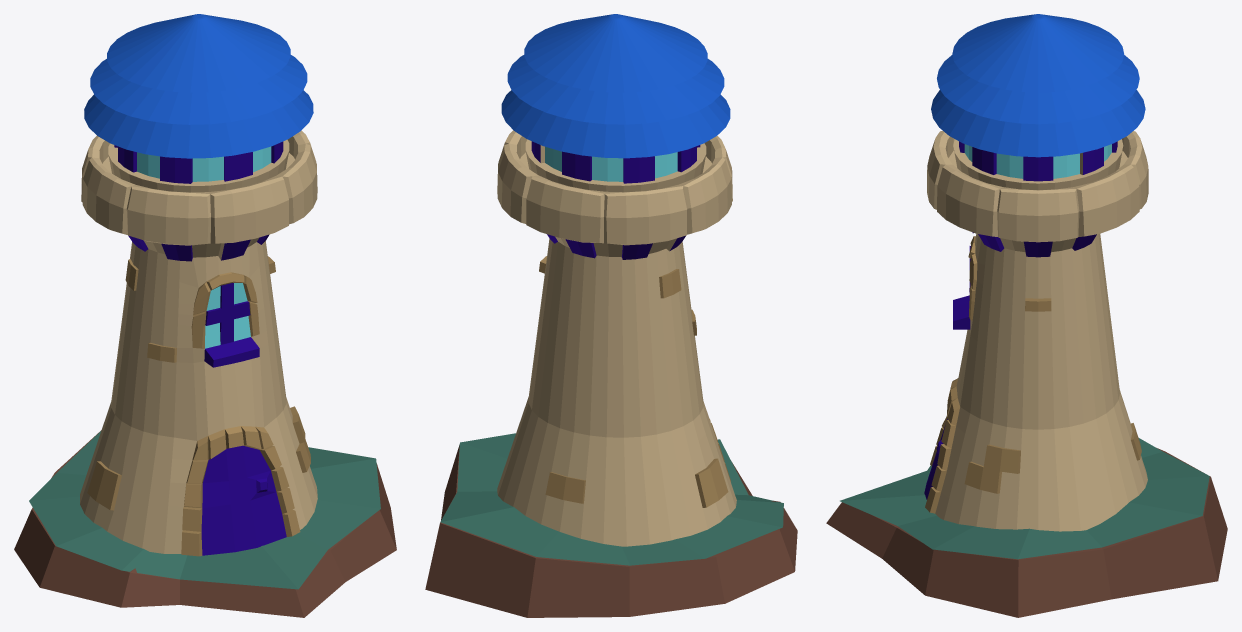
Rendered from kalesu (1).fbx.
The picture shows the model from 3 angles, left to right: view 1: azimuth 30°, elevation 25°; view 2: azimuth 150°, elevation 25°; view 3: azimuth 270°, elevation 25°; orthographic projection. The views are drawn at different scales.
Visible parts, largest first — view 1: Cylinder.005, cımen.004, Circle.005; view 2: Cylinder.005, Circle.005, cımen.004; view 3: Cylinder.005, Circle.005, cımen.004.
Part boxes in pixels (bbox=[...]): Cylinder.005: bbox=[80, 14, 317, 556]; cımen.004: bbox=[29, 431, 380, 589]; Circle.005: bbox=[14, 430, 396, 617]; Cylinder.005: bbox=[497, 14, 736, 546]; Circle.005: bbox=[425, 445, 797, 617]; cımen.004: bbox=[440, 433, 783, 565]; Cylinder.005: bbox=[924, 14, 1148, 531]; Circle.005: bbox=[826, 448, 1227, 617]; cımen.004: bbox=[840, 438, 1209, 559].
Bounding box in the file's own units: 488 × 705 × 496.
